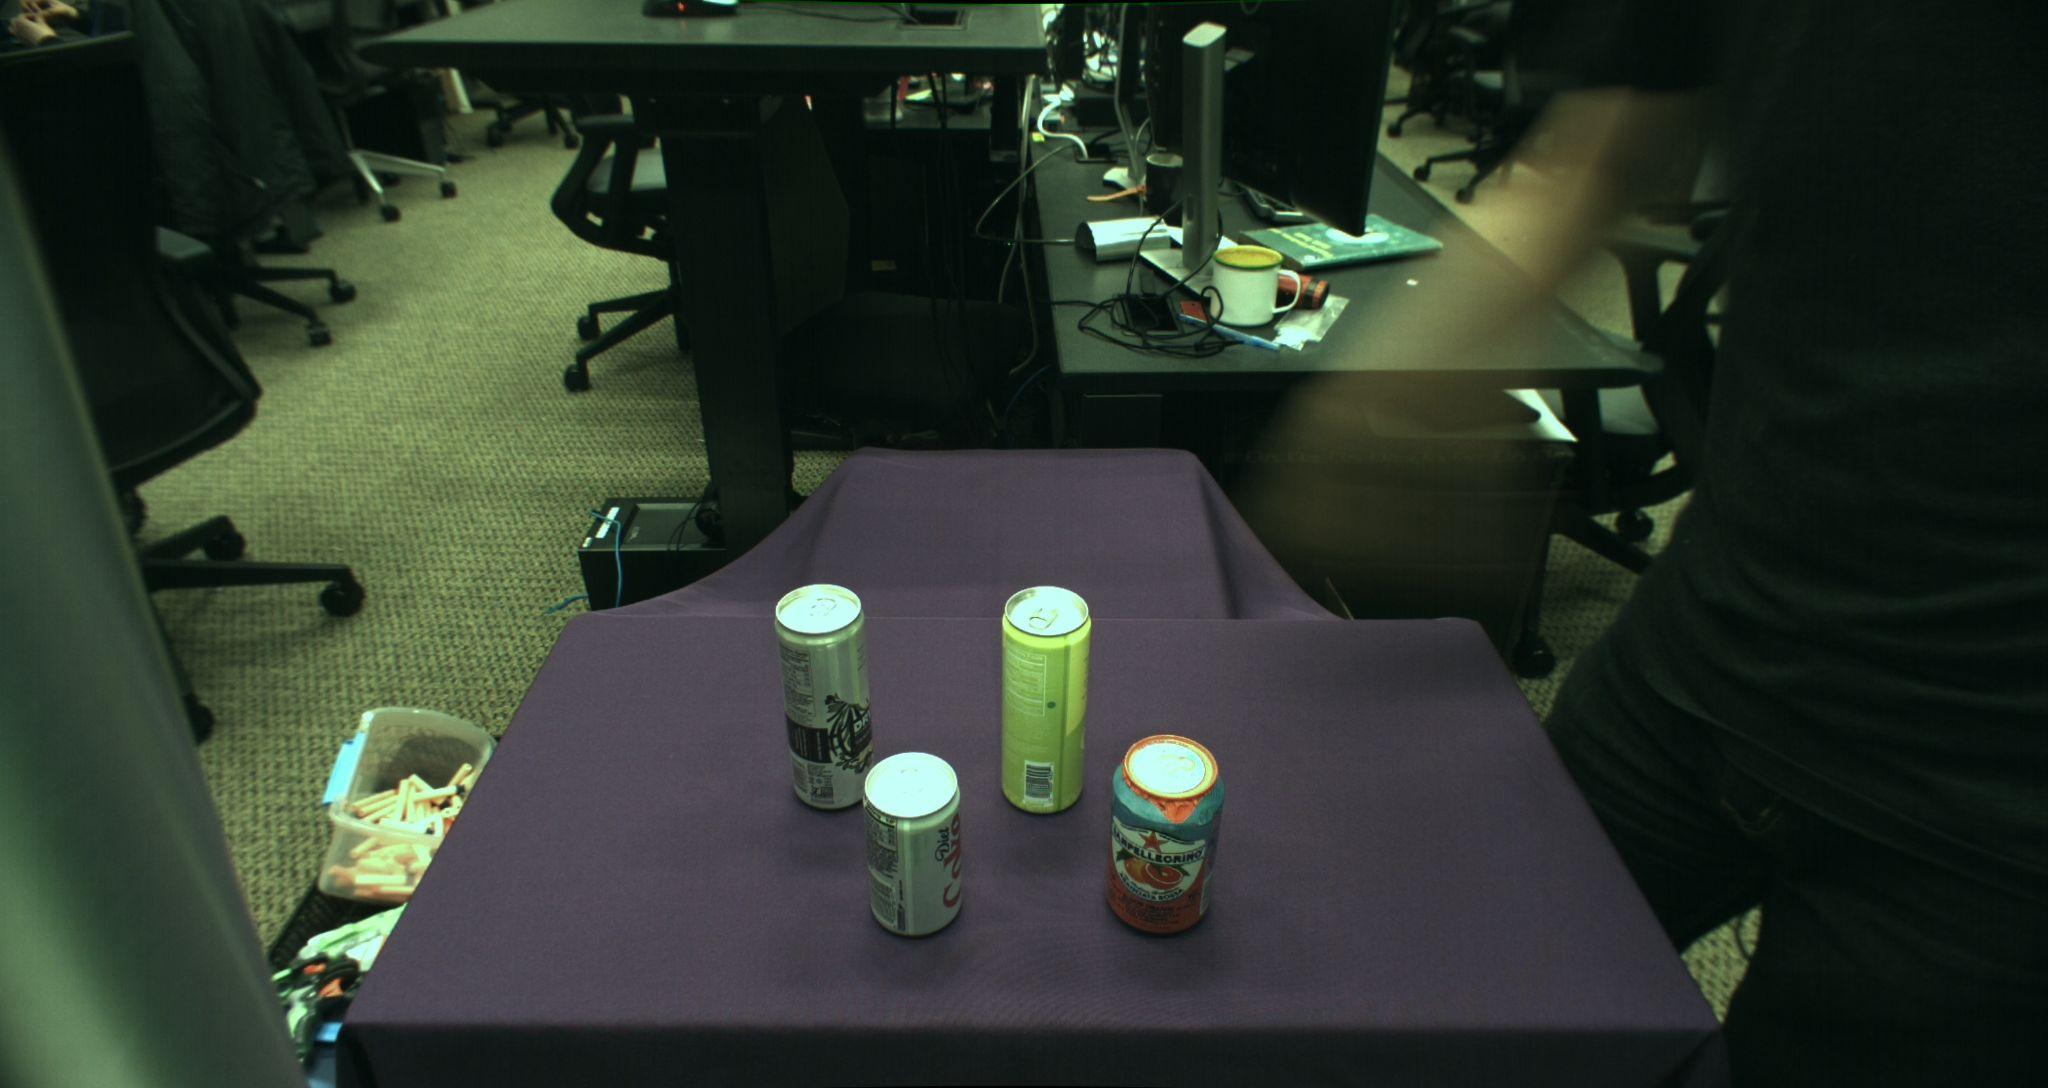can_diet_coke_small: (863, 751, 964, 938)
can_dry_sparkling_vanilla_bean: (773, 581, 879, 812)
can_izze_fusions_lemon_lime: (1000, 585, 1090, 814)
can_sanpellegrino_blood_orange: (1107, 734, 1224, 934)
